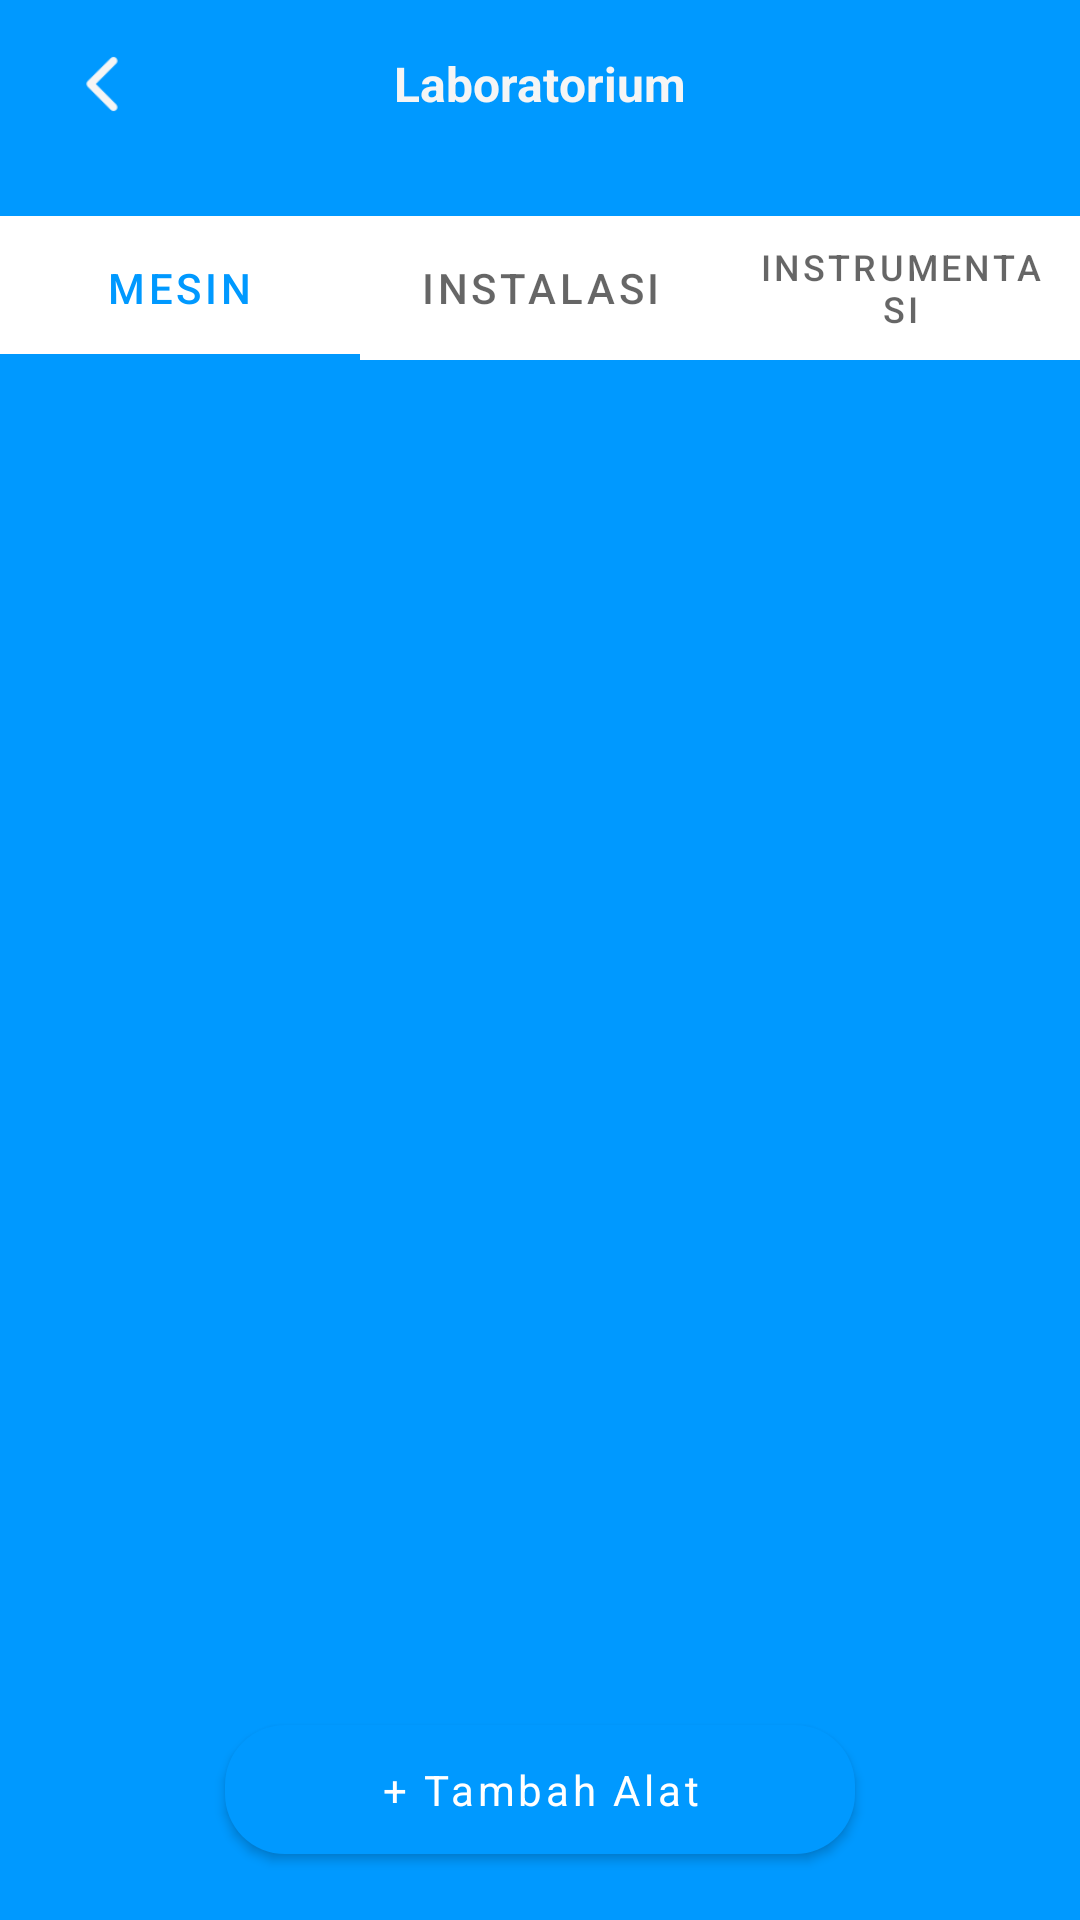

Where icons sit on this 1080*1920 app screen, as region(x1, y1, x2, y2):
arrow back: region(86, 57, 118, 111)
